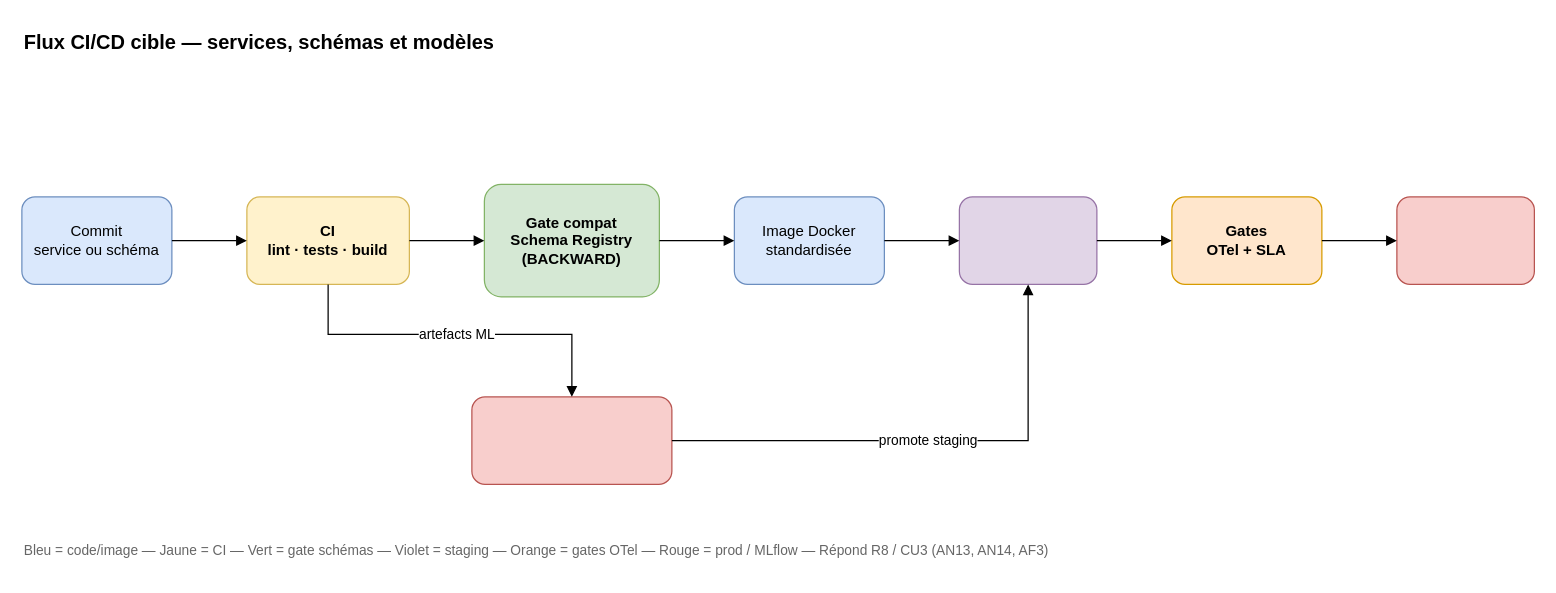
This 1556x593 diagram has some shape labels left out. The centre of each missing label's shape, as x and y in pixels:
"MLflow Registry (promotion modèles)" goes at (x=571, y=440).
"Production" goes at (x=1465, y=240).
"Staging" goes at (x=1027, y=240).
